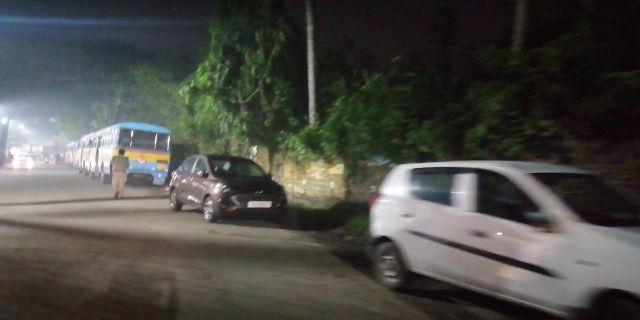Bus: (103, 122, 173, 191)
Car: (374, 159, 621, 302), (176, 144, 287, 227)
